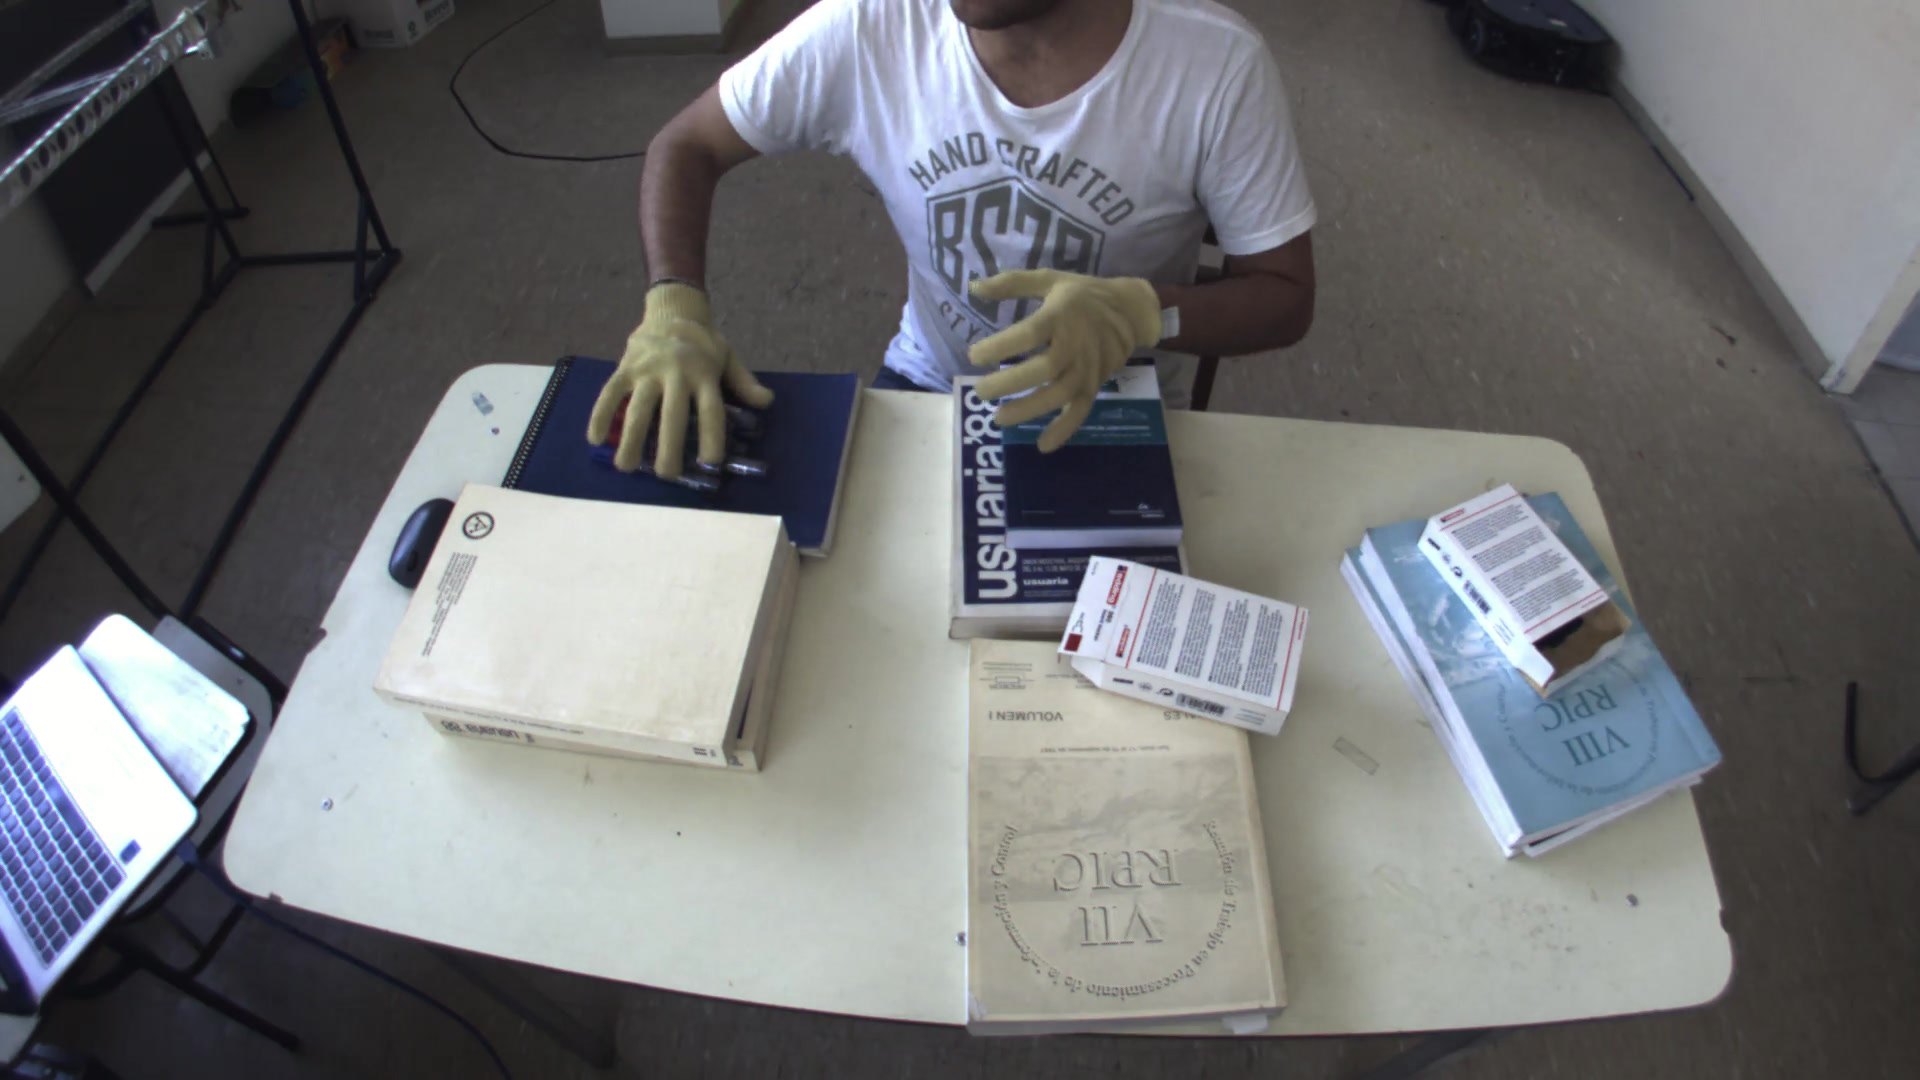hand: (948, 245, 1174, 458), (576, 262, 771, 477)
